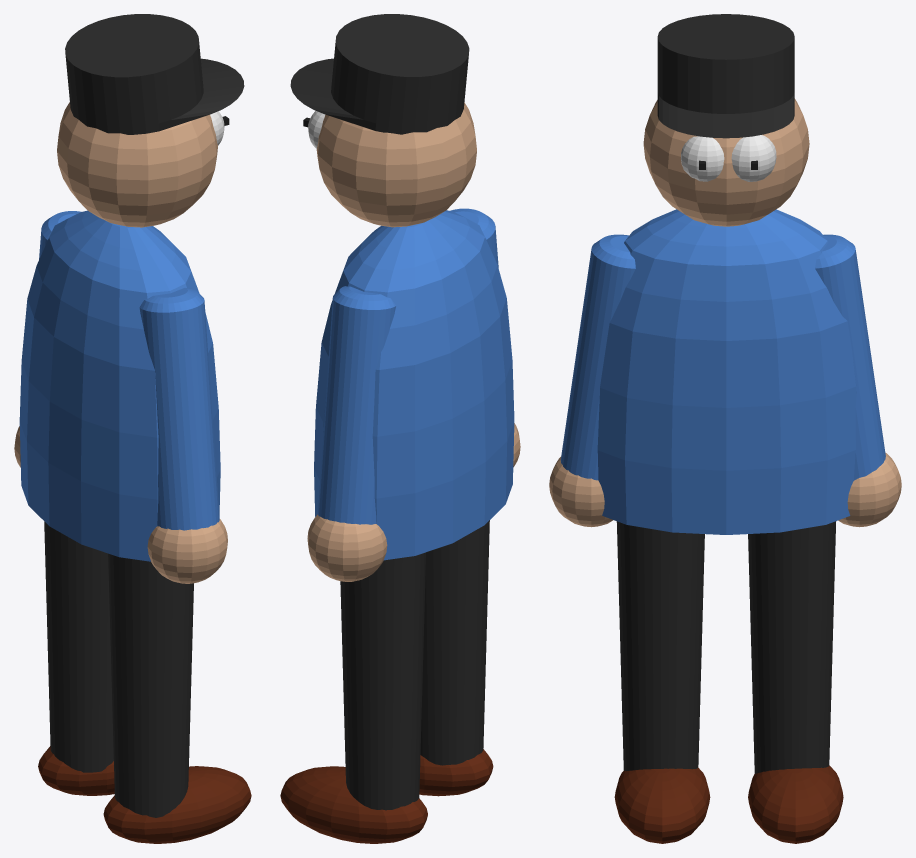
File: vagt.gltf
3 renders of one model, left to right at view 1: azimuth 30°, elevation 25°; view 2: azimuth 150°, elevation 25°; view 3: azimuth 270°, elevation 25°, orthographic. The views are drawn at different scales.
Visible parts, largest first — view 1: Sphere.002, Cylinder, Cylinder.004, Cylinder.001, Cylinder.002, Sphere.005, Sphere, Sphere.003, Sphere.001, Cylinder.003; view 2: Sphere.002, Cylinder.001, Cylinder.004, Cylinder, Sphere.005, Cylinder.003, Sphere.001, Sphere.004, Sphere, Cylinder.002; view 3: Sphere.002, Cylinder.001, Cylinder, Cylinder.004, Sphere.005, Cylinder.002, Cylinder.003, Sphere.001, Sphere, Sphere.004, Sphere.003, Sphere.007 (+1 smaller).
Part boxes in pixels (bbox=[...]): Sphere.002: bbox=[19, 210, 220, 561]; Cylinder: bbox=[108, 553, 193, 817]; Cylinder.004: bbox=[65, 14, 244, 134]; Cylinder.001: bbox=[44, 521, 113, 772]; Cylinder.002: bbox=[139, 288, 219, 530]; Sphere.005: bbox=[57, 102, 217, 227]; Sphere: bbox=[103, 766, 251, 843]; Sphere.003: bbox=[147, 519, 227, 583]; Sphere.001: bbox=[38, 746, 114, 795]; Cylinder.003: bbox=[39, 211, 81, 259]; Sphere.002: bbox=[314, 210, 514, 560]; Cylinder.001: bbox=[340, 552, 425, 810]; Cylinder.004: bbox=[290, 14, 469, 134]; Cylinder: bbox=[420, 520, 489, 765]; Sphere.005: bbox=[316, 102, 476, 227]; Cylinder.003: bbox=[318, 286, 395, 524]; Sphere.001: bbox=[280, 766, 427, 843]; Sphere.004: bbox=[307, 514, 387, 581]; Sphere: bbox=[419, 749, 493, 796]; Cylinder.002: bbox=[450, 208, 498, 267]; Sphere.002: bbox=[597, 209, 856, 534]; Cylinder.001: bbox=[748, 521, 836, 773]; Cylinder: bbox=[616, 521, 704, 771]; Cylinder.004: bbox=[657, 14, 794, 138]; Sphere.005: bbox=[643, 98, 809, 226]; Cylinder.002: bbox=[560, 234, 635, 480]; Cylinder.003: bbox=[815, 234, 885, 480]; Sphere.001: bbox=[748, 765, 843, 843]; Sphere: bbox=[614, 767, 710, 843]; Sphere.004: bbox=[838, 452, 901, 527]; Sphere.003: bbox=[549, 456, 613, 527]; Sphere.007: bbox=[731, 135, 776, 181].
Size of the model in its own units: 1.18 by 4.68 by 1.89.
